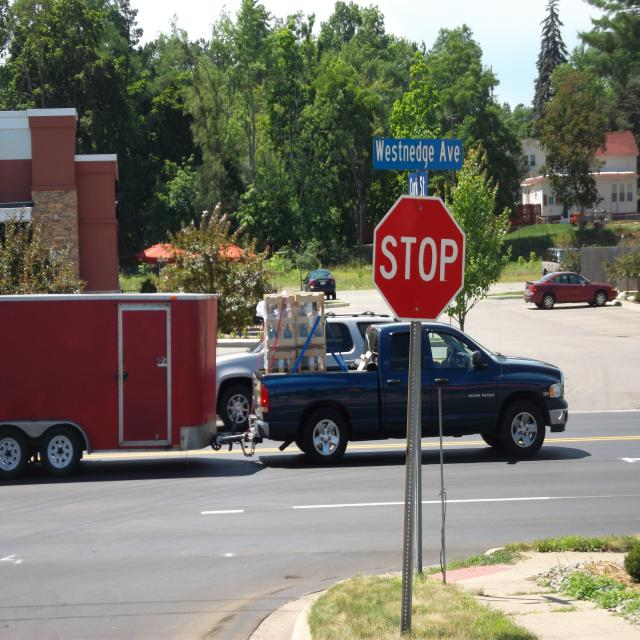stop: (368, 186, 472, 332)
